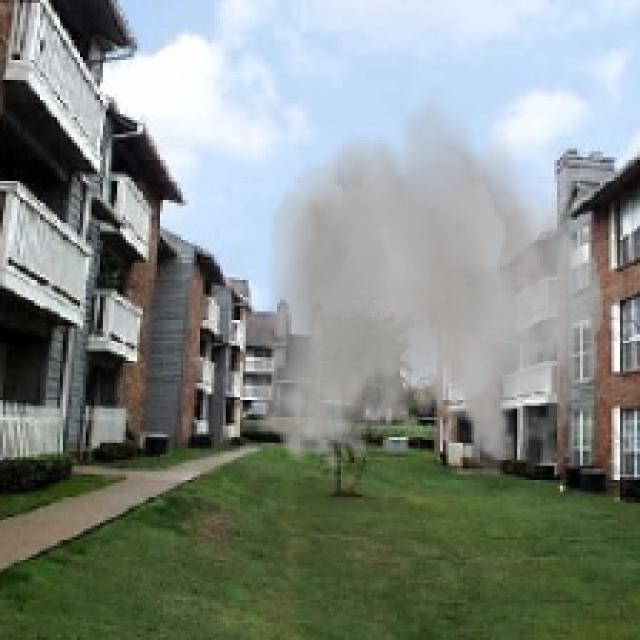smoke: (251, 83, 603, 474)
